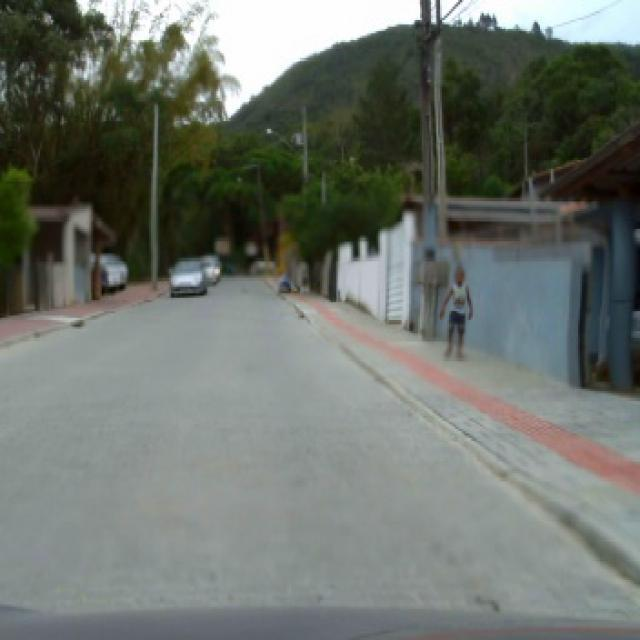Poth-hole: (69, 316, 84, 326)
